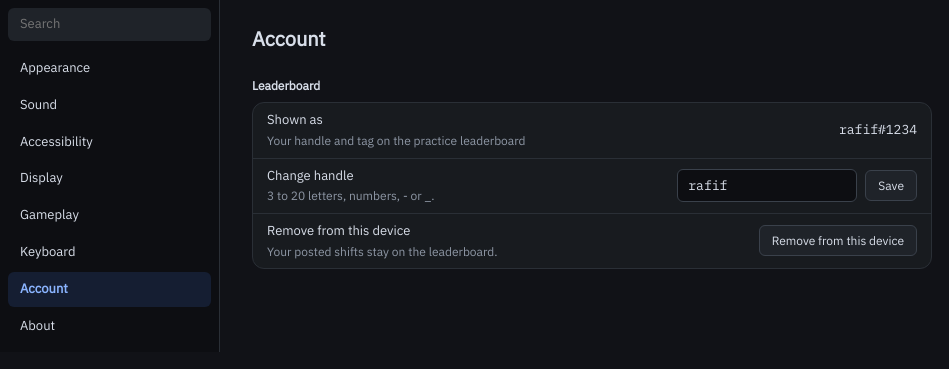
Settings: Account (M2) › asks for a different handle when the server rejects it
Replace the text in the field named "Handle" with "kontol". click: (767, 186)
box: [677,169,857,202]
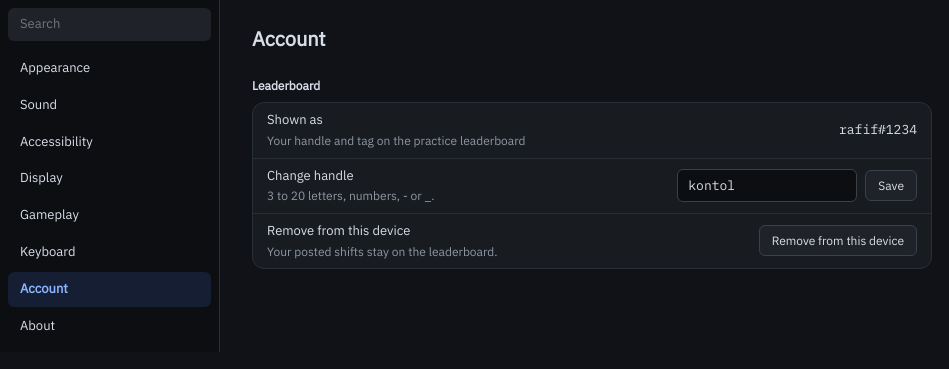
Click the button "Save". click: (891, 186)
box: [865,170,917,201]
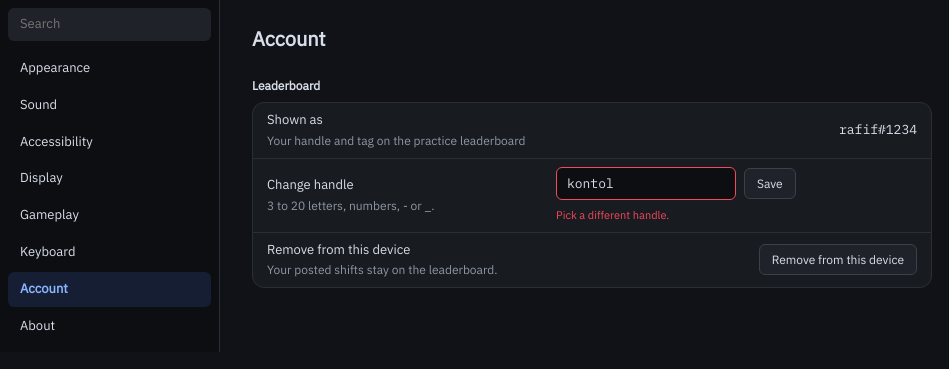
Check: the text "Pick a different handle." is shown, box [556,208,669,222]
